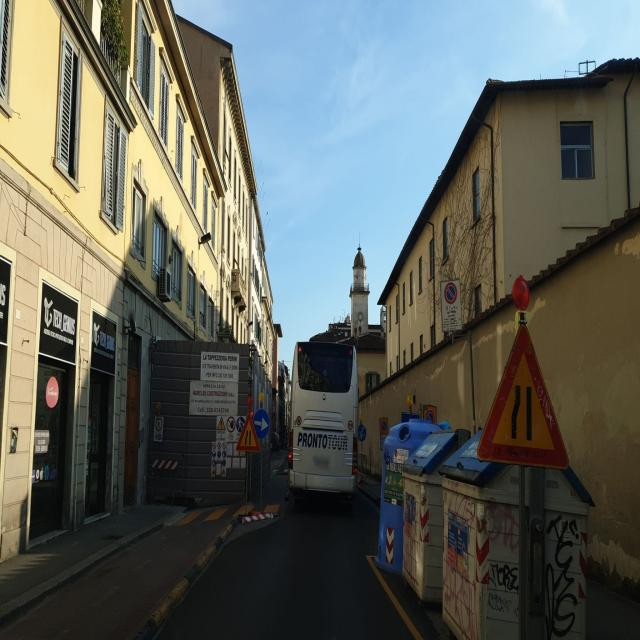forb_stopping: (444, 282, 458, 305), (381, 420, 387, 432)
